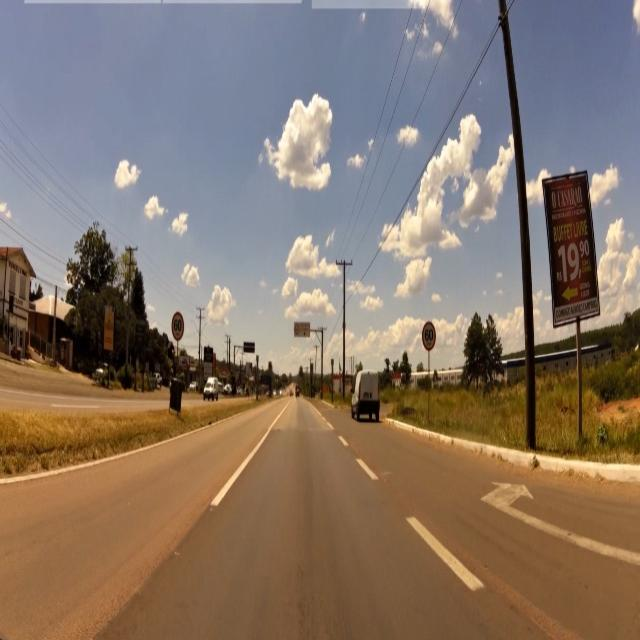R-19: (422, 320, 437, 355), (170, 310, 185, 345)
